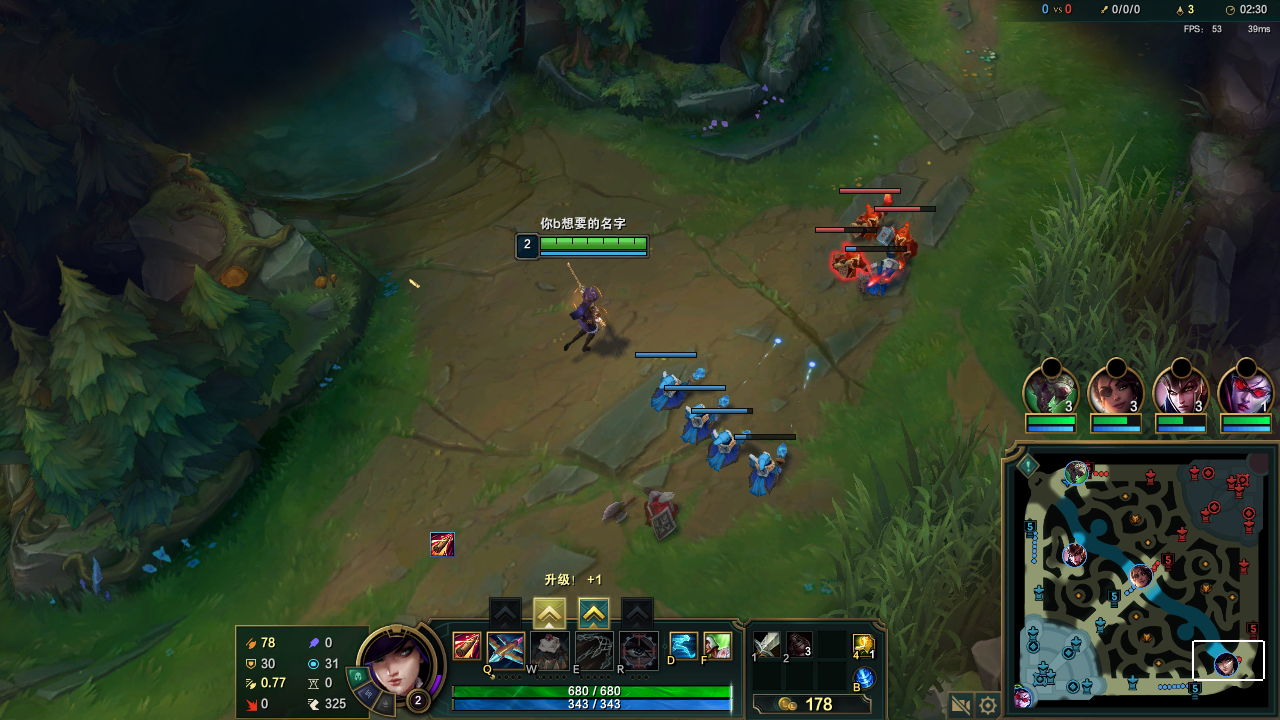DFXB: (890, 222, 923, 257), (835, 245, 864, 277), (858, 207, 885, 239)
Shenji: (579, 601, 605, 625)
Tuijianshengji: (536, 599, 565, 625)
WFXB: (653, 366, 706, 410), (683, 394, 728, 444), (751, 442, 788, 496), (711, 421, 750, 472), (862, 260, 902, 293)
Yita: (1188, 680, 1203, 696)
